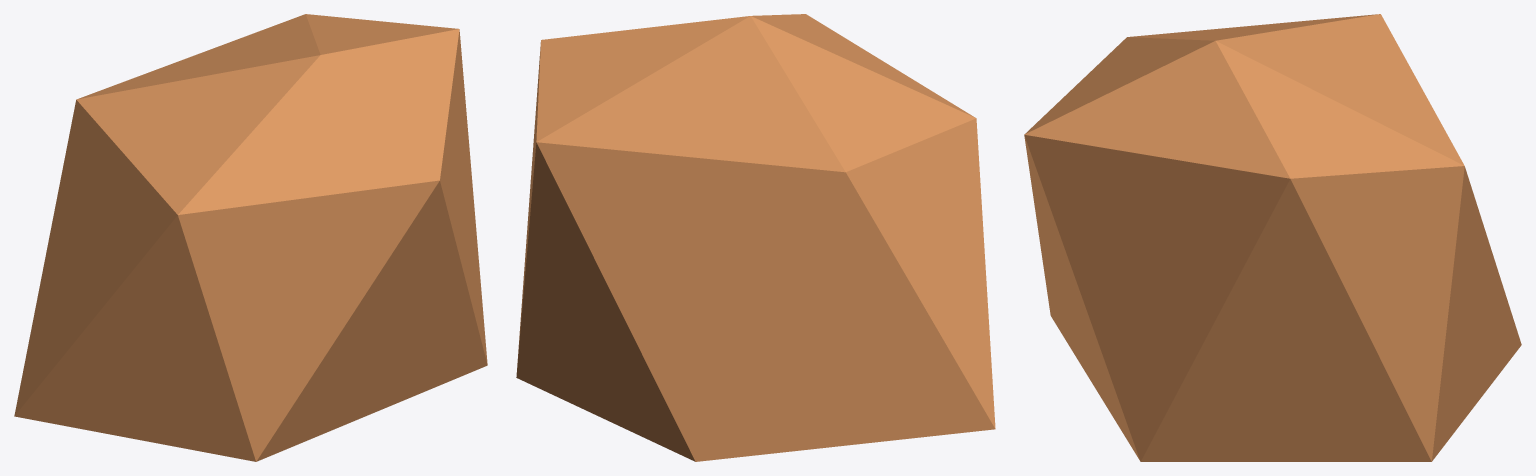
File: Desert_NotWalkable02.fbx
The picture shows the model from 3 angles, left to right: view 1: azimuth 30°, elevation 25°; view 2: azimuth 150°, elevation 25°; view 3: azimuth 270°, elevation 25°; orthographic projection. The views are drawn at different scales.
Visible parts, largest first — view 1: Desert_NotWalkable02; view 2: Desert_NotWalkable02; view 3: Desert_NotWalkable02.
Part boxes in pixels (<box>): Desert_NotWalkable02: <box>14,14,487,461</box>; Desert_NotWalkable02: <box>516,14,995,461</box>; Desert_NotWalkable02: <box>1024,14,1521,461</box>.
Bounding box in the file's own units: 1.65 × 1.12 × 1.44.
